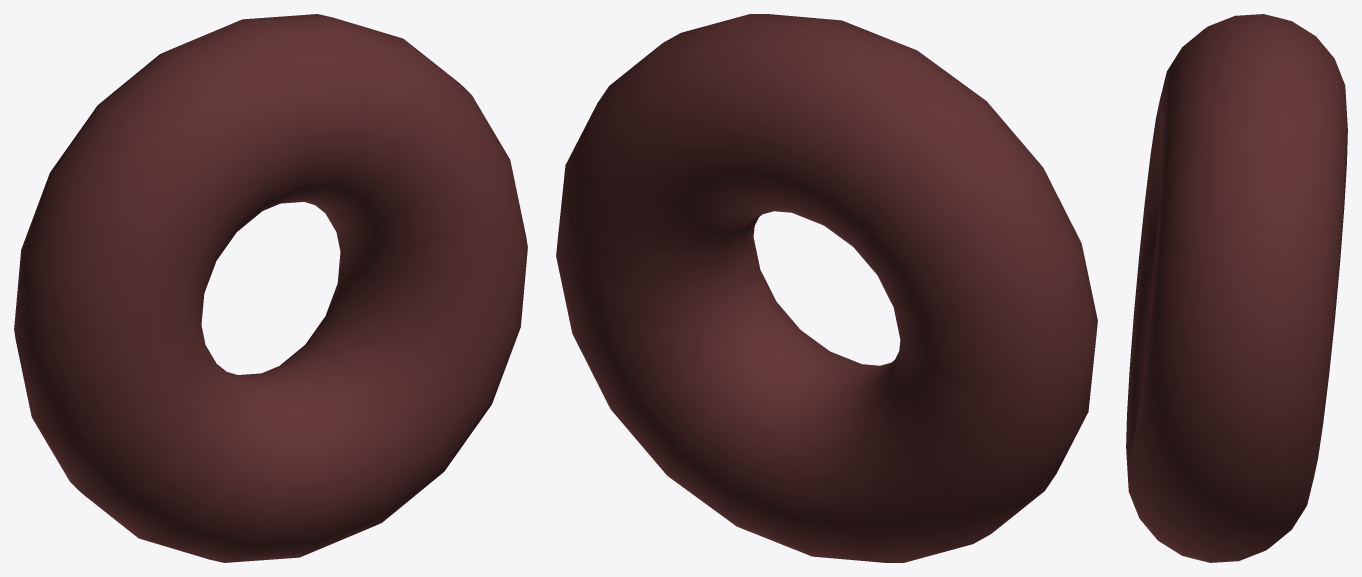
File: Donut.fbx
3 renders of one model, left to right at view 1: azimuth 30°, elevation 25°; view 2: azimuth 150°, elevation 25°; view 3: azimuth 270°, elevation 25°, orthographic. The views are drawn at different scales.
Parts seen in each view (by area): view 1: pTorus1; view 2: pTorus1; view 3: pTorus1.
Part boxes in pixels (x1,y1,x2,y2): pTorus1: (14,14,527,562); pTorus1: (556,14,1097,562); pTorus1: (1126,14,1347,562).
Bounding box in the file's own units: 0.03 × 0.0298 × 0.012.
